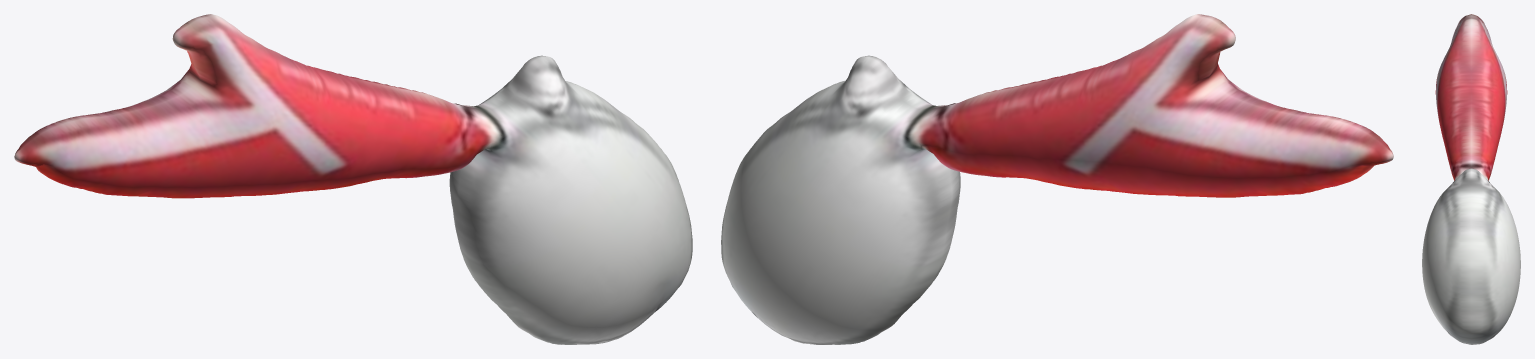
File: asset.glb
The picture shows the model from 3 angles, left to right: view 1: azimuth 30°, elevation 25°; view 2: azimuth 150°, elevation 25°; view 3: azimuth 270°, elevation 25°; orthographic projection. The views are drawn at different scales.
Size of the model in its own units: 8.41 by 5.03 by 2.02.
1 material, 1 textured.
